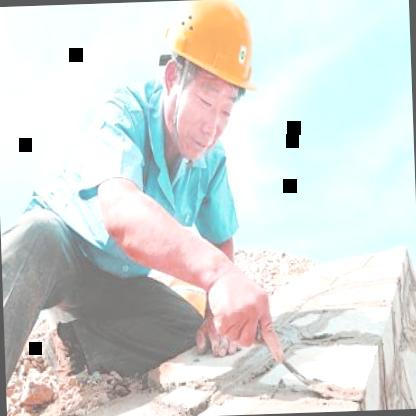helmet: (150, 0, 276, 166)
